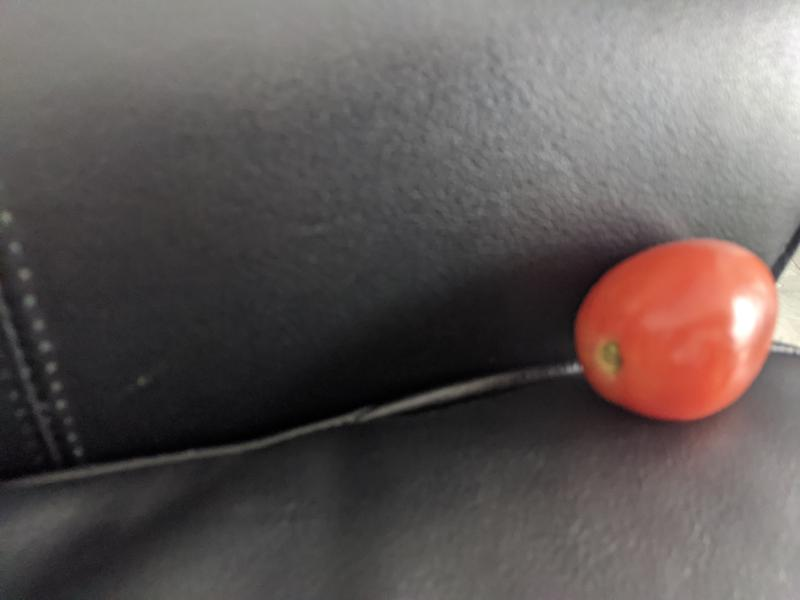tomato: (572, 238, 781, 421)
